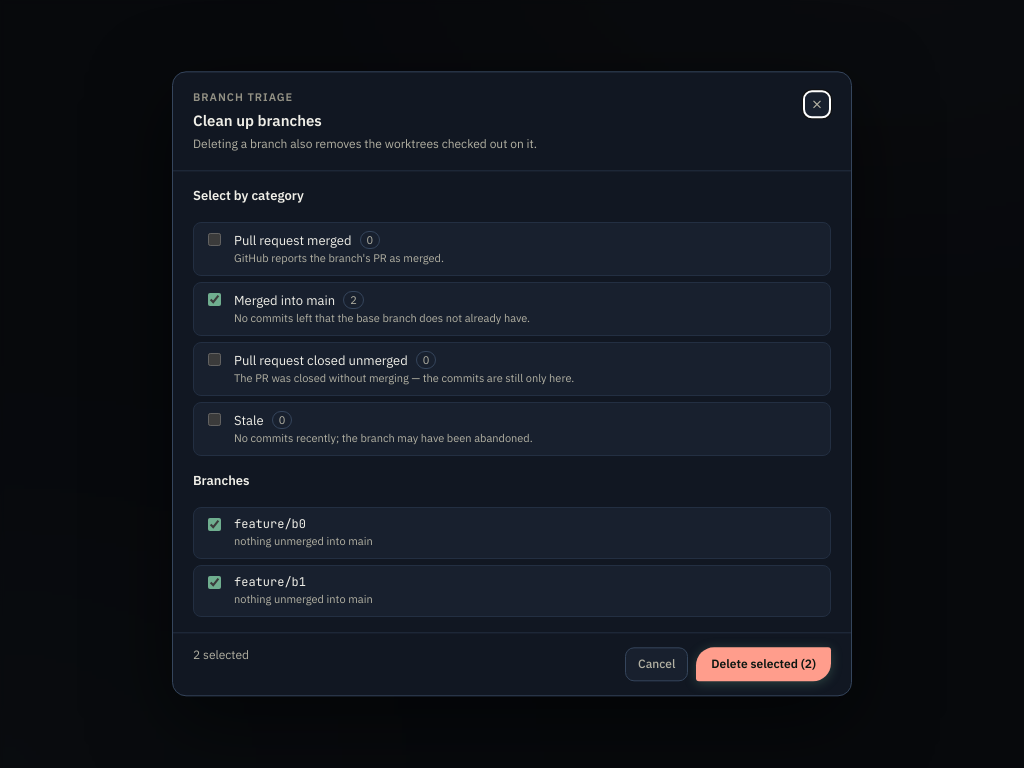
Scenario: a parked or failed block is above the branch list too
What coordinates should you click on to do the following:
click the button "Delete selected (2)"
I would click on:
 (764, 664)
Its box is [696, 647, 831, 682].
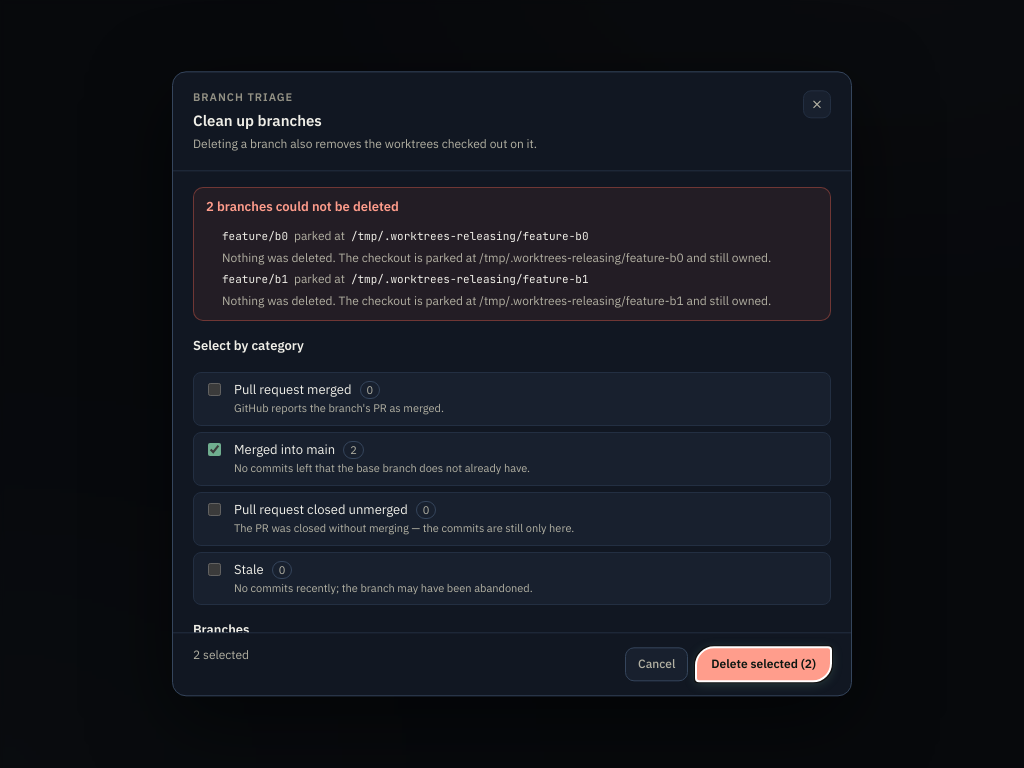
Expected: the element with class "branch-cleanup-failures" is shown, [193, 188, 831, 321]
